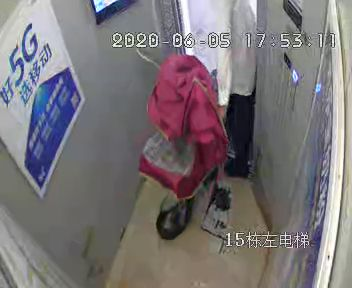Electric-bicycle: (138, 53, 228, 240)
